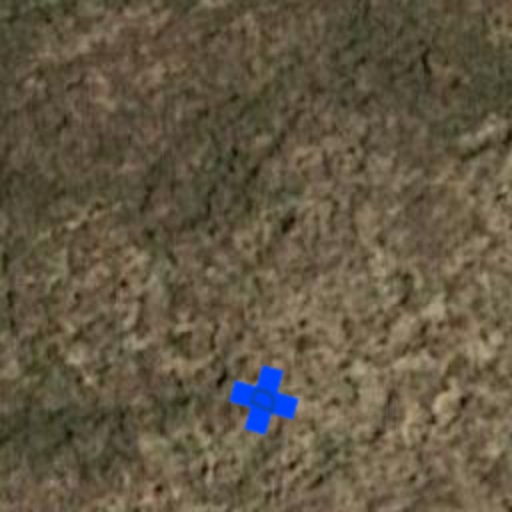cross: (222, 358, 306, 442)
